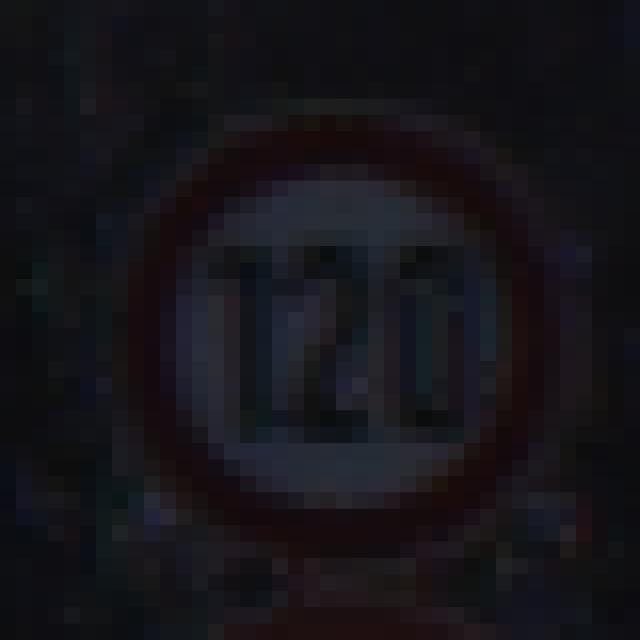Ograniczenie predkosci do 120: (141, 126, 546, 552)
